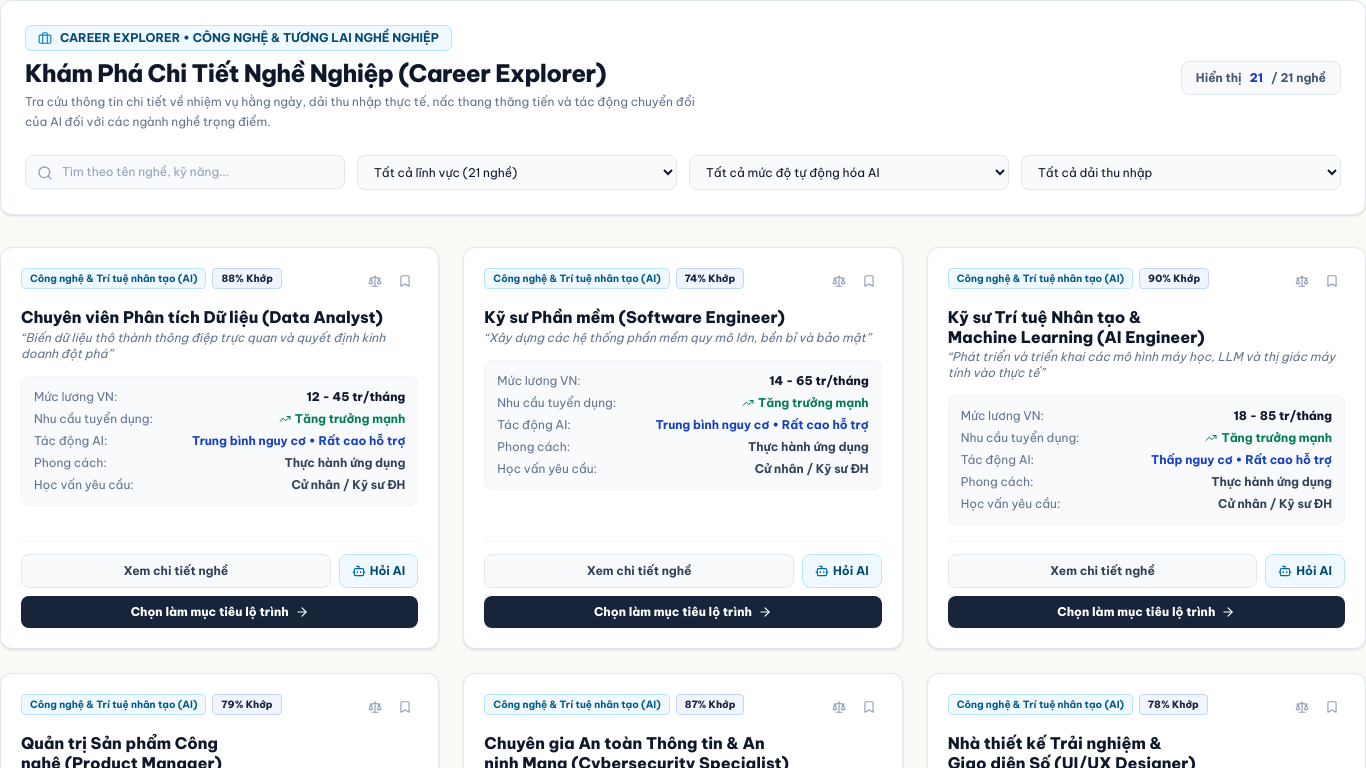
MODULE PROMPT 05 — CAREER & MAJOR EXPLORER › A. CAREER EXPLORER › 3. Discovery: search, filter, and compare shortlist for careers
In the field with placeholder "Tìm theo tên nghề, kỹ năng...": {"x": 185, "y": 172} [25,155,345,189], type "Phần mềm"
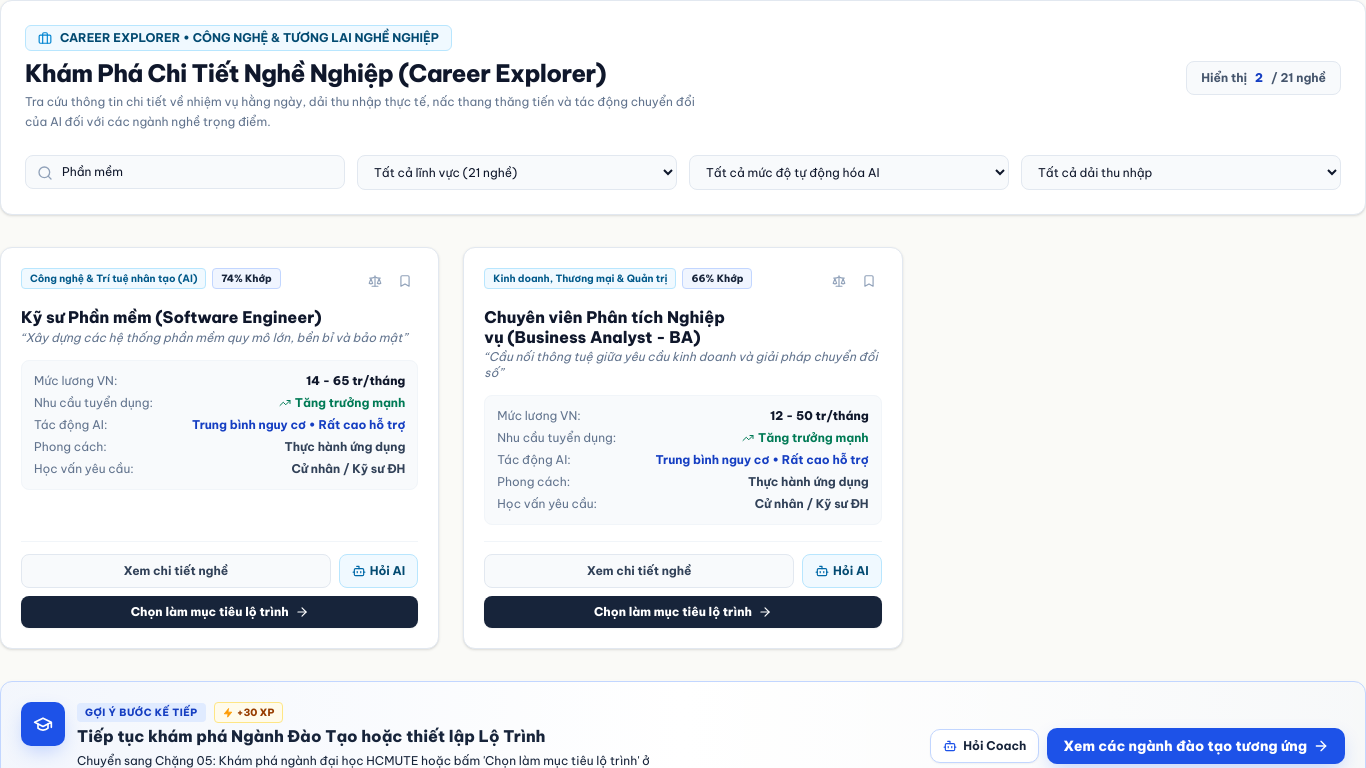
Expected: the heading "Kỹ sư Phần mềm (Software Engineer)" is shown, [21,307,322,327]
// Clear search
Clear the field with placeholder "Tìm theo tên nghề, kỹ năng...": {"x": 185, "y": 172} [25,155,345,189]
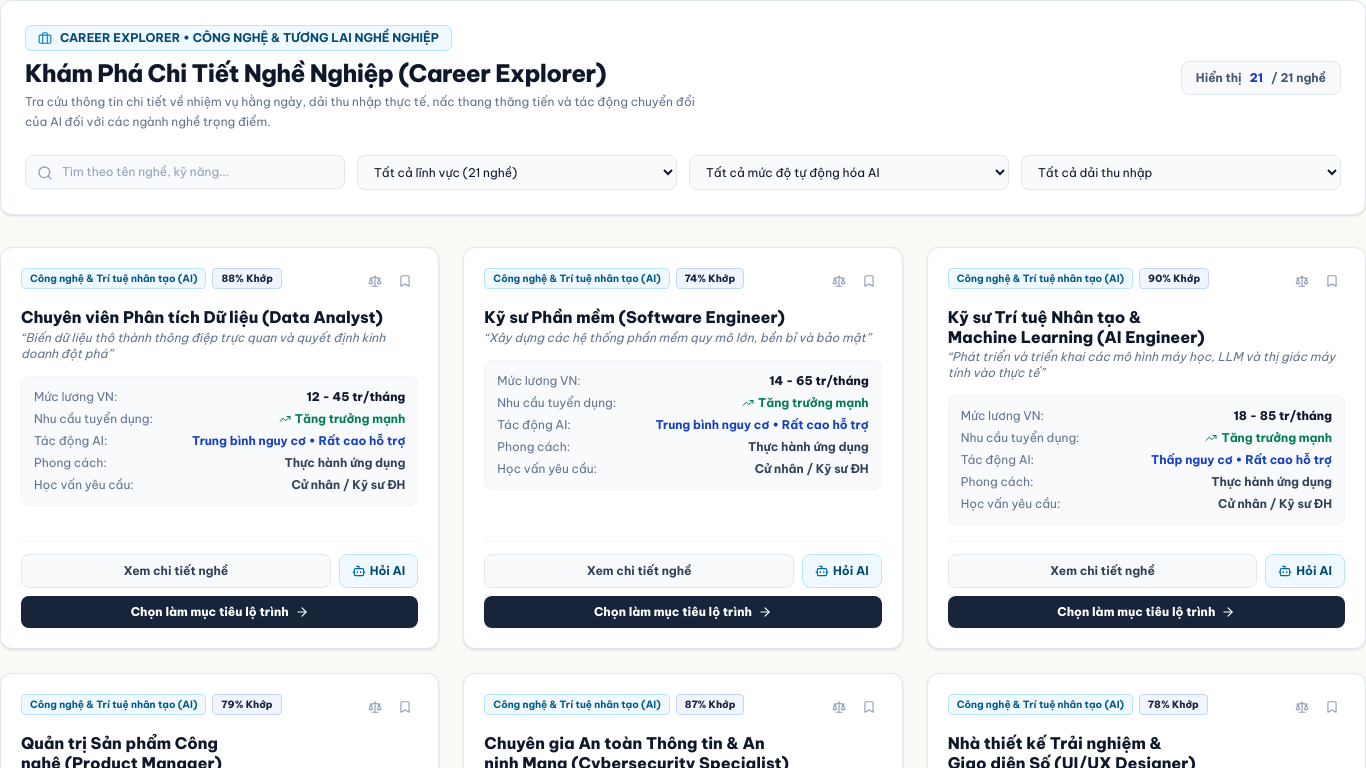
Click the button titled "Thêm vào so sánh" in the row of "88": {"x": 375, "y": 281} [362,268,388,294]
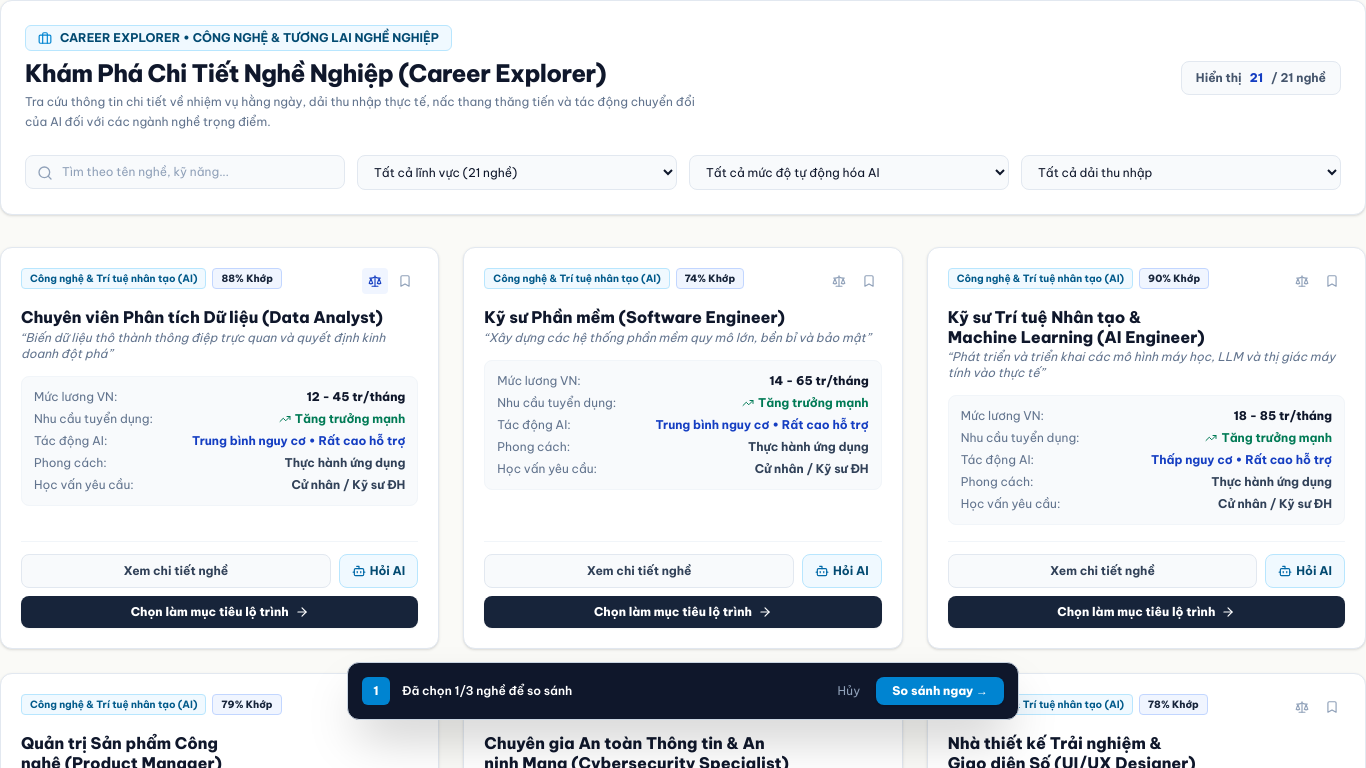
Click the 1st button titled "Thêm vào so sánh": {"x": 839, "y": 281} [826,268,852,294]
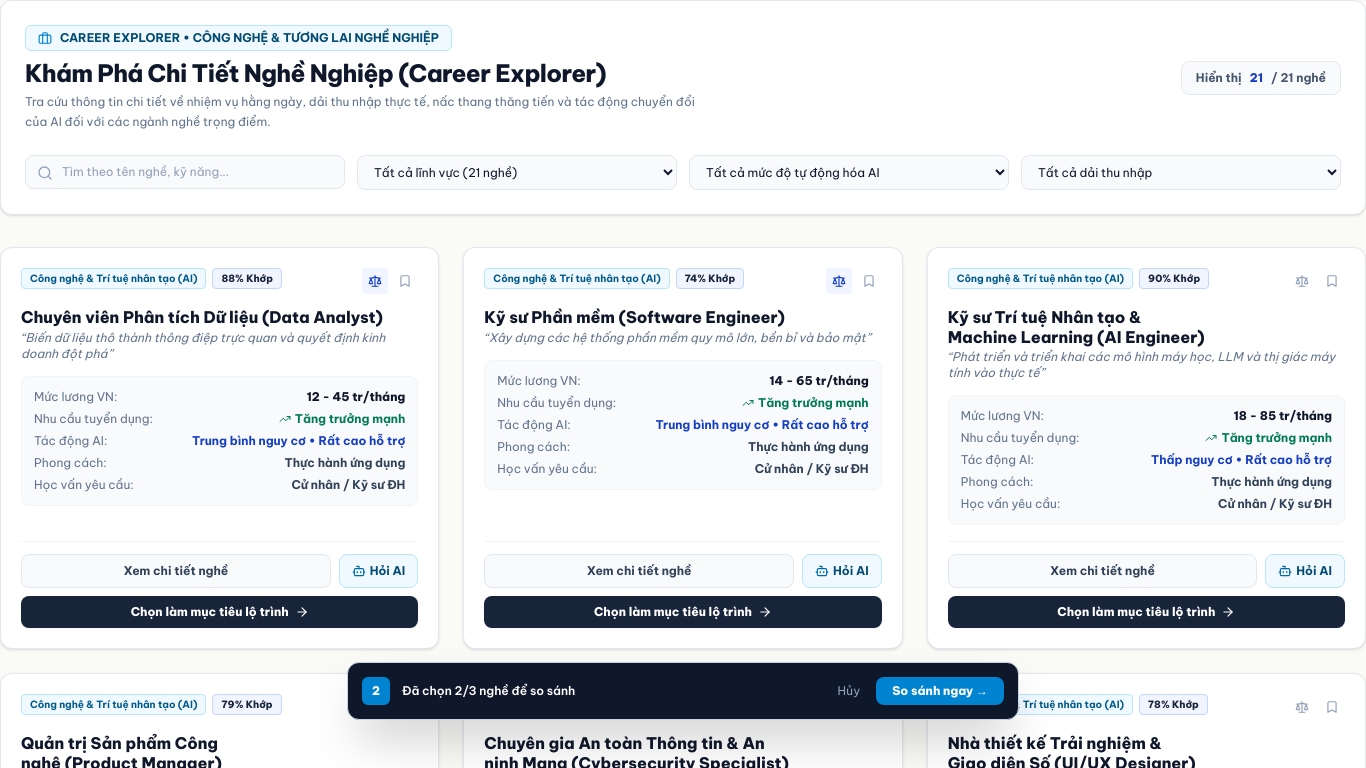
Now the text "Đã chọn 2/3 nghề để so sánh" is shown, box [402,683,575,699]
